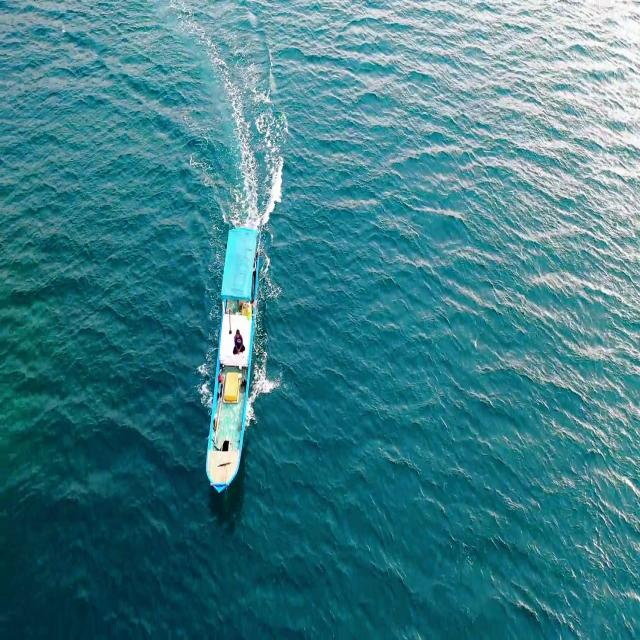ship: (204, 220, 254, 499)
